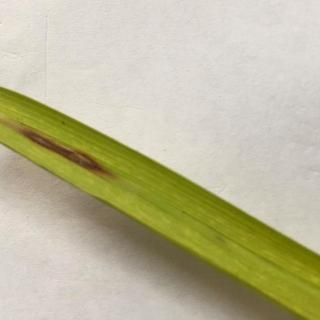Blast: (0, 96, 132, 193)
